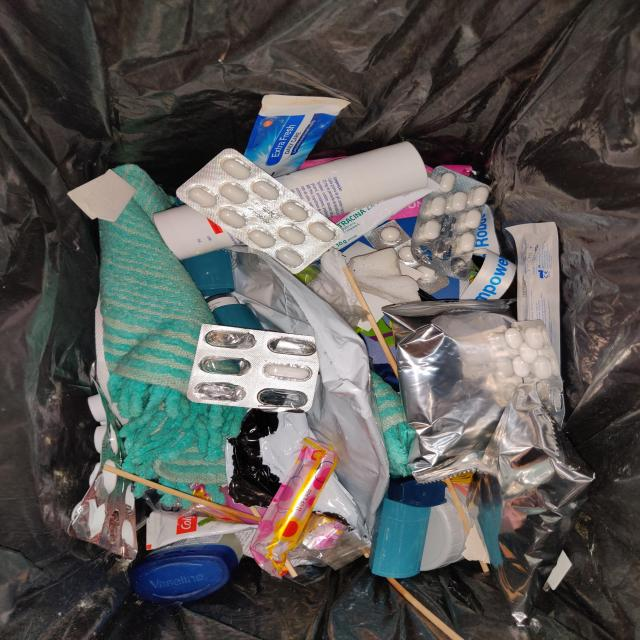litter: (175, 150, 343, 277), (247, 444, 339, 576), (245, 94, 353, 180)
